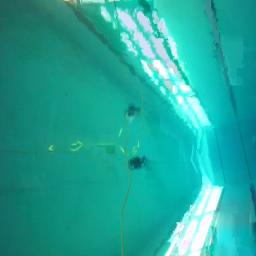Side: (128, 154, 147, 171)
